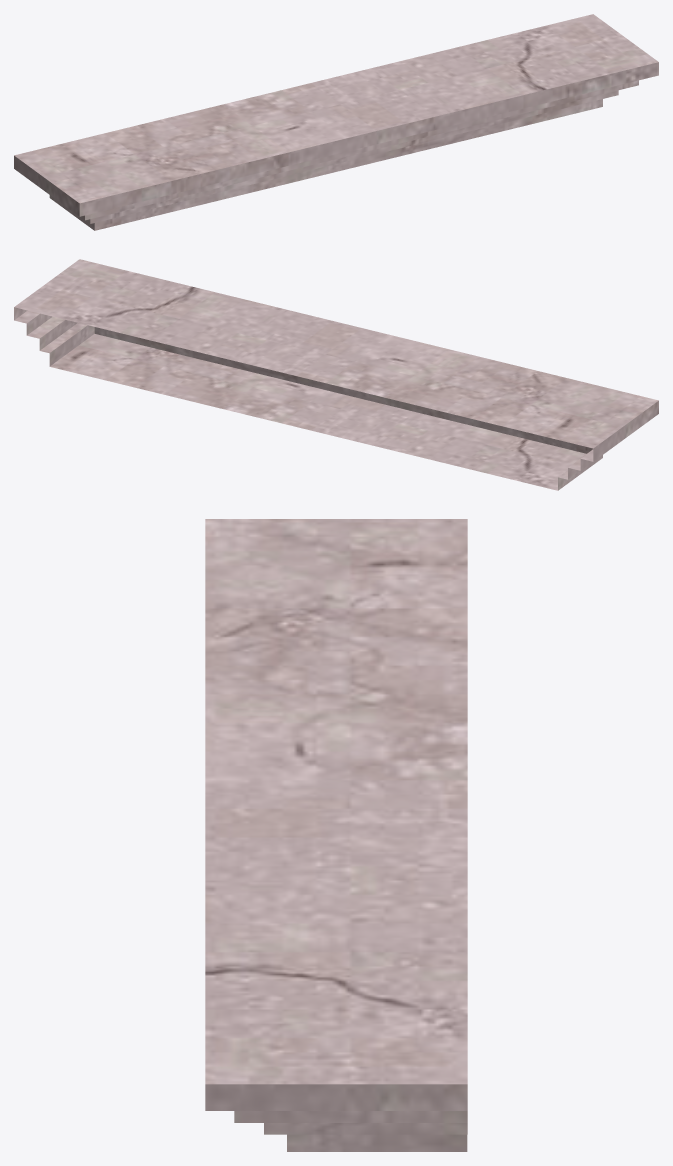
File: pasted__marble_tiles_pink_35.fbx
3 views of the same model, one above another, from view 1: azimuth 30°, elevation 25°; view 2: azimuth 150°, elevation 25°; view 3: azimuth 270°, elevation 25° (orthographic). The views are drawn at different scales.
Visible parts, largest first — view 1: pasted__marble_tiles_pink_35; view 2: pasted__marble_tiles_pink_35; view 3: pasted__marble_tiles_pink_35.
Boxes of the visible parts, x1,y1,x2,y2 form: pasted__marble_tiles_pink_35: [14, 14, 658, 230]; pasted__marble_tiles_pink_35: [14, 259, 658, 490]; pasted__marble_tiles_pink_35: [205, 519, 467, 1151].
Bounding box in the file's own units: 63.16 × 12.4 × 5.31.
